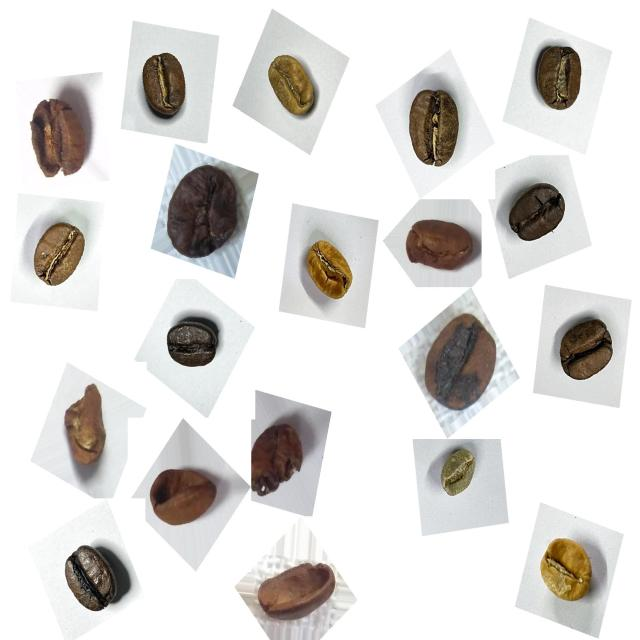bad: (157, 149, 250, 269), (416, 301, 508, 420), (21, 80, 99, 190), (252, 550, 339, 638), (247, 407, 320, 509), (142, 454, 225, 542), (396, 208, 478, 289), (52, 377, 117, 479)
dark: (51, 533, 129, 626), (549, 306, 625, 397), (499, 171, 575, 256), (158, 309, 228, 384)
green: (430, 440, 486, 508)
light: (532, 526, 605, 618), (293, 230, 362, 314), (258, 46, 326, 129)
medium: (396, 81, 474, 180), (22, 212, 95, 300), (523, 36, 595, 125), (131, 43, 199, 127)
